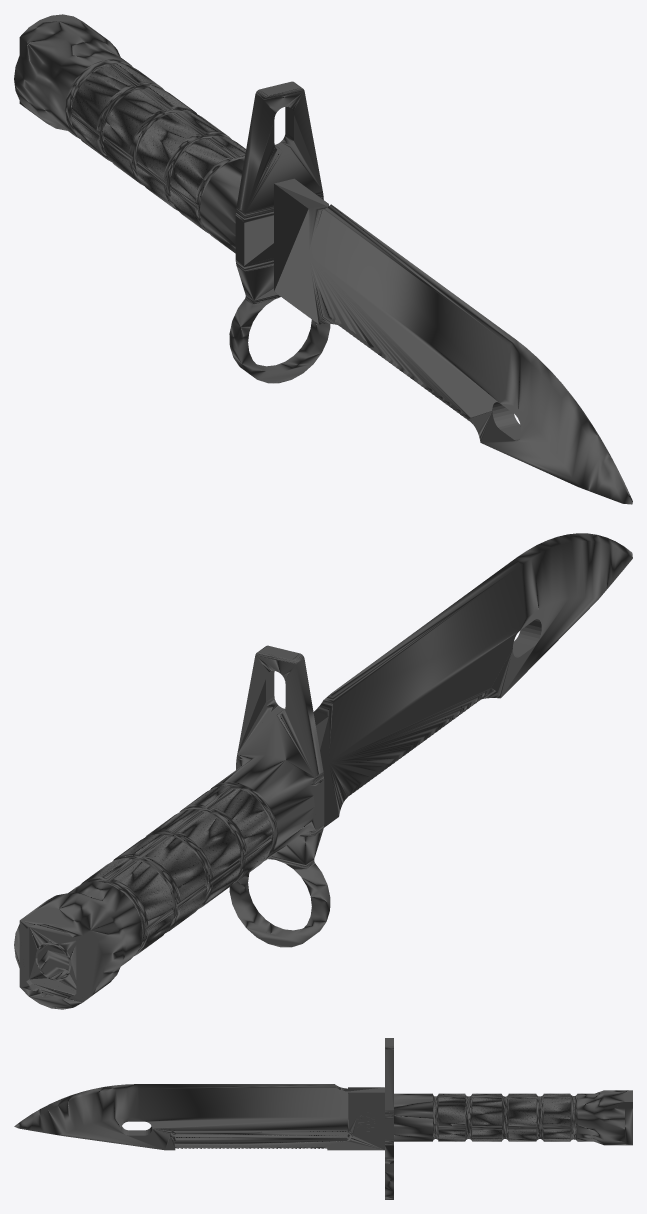
Rendered from model_align.obj.
The picture shows the model from 3 angles, top to bottom: view 1: azimuth 30°, elevation 25°; view 2: azimuth 150°, elevation 25°; view 3: azimuth 270°, elevation 25°; orthographic projection. The views are drawn at different scales.
Size of the model in its own units: 0.0179 by 0.0536 by 0.1946.
4 materials, 4 textured.
